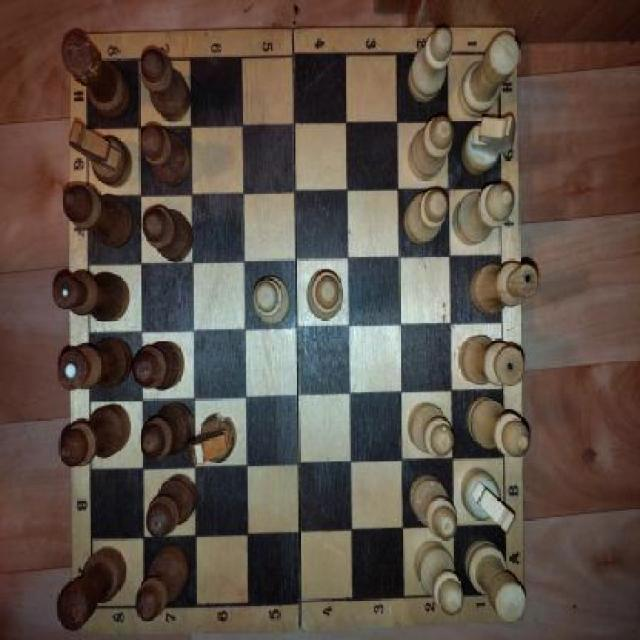chess-table-corners: (483, 556, 528, 622), (472, 25, 516, 90), (74, 572, 118, 634), (70, 33, 112, 96)
